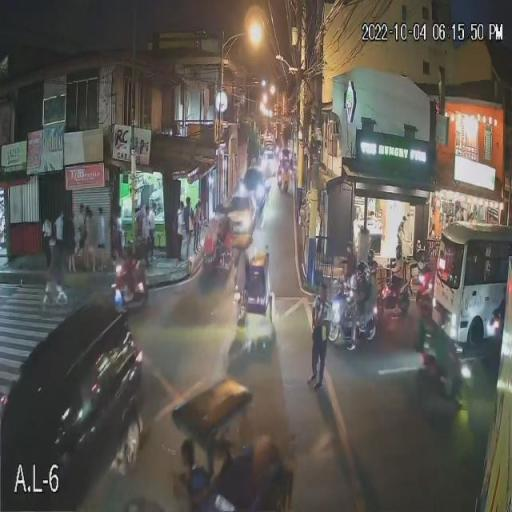helmet: (357, 260, 370, 280), (394, 246, 403, 263)
motorcycle: (327, 290, 384, 348), (111, 258, 151, 310), (379, 283, 415, 316)
rider: (356, 260, 373, 330), (389, 246, 405, 295)
